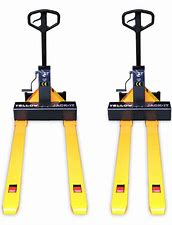Pallet Jack: (3, 8, 88, 217), (106, 8, 172, 218)
